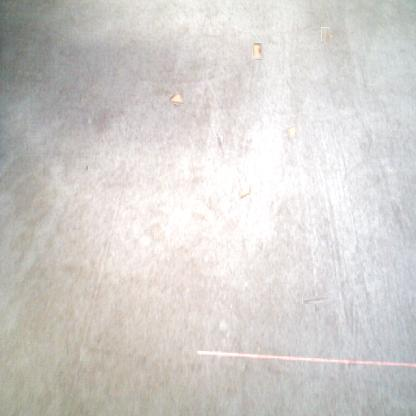dirty: (169, 92, 183, 106), (252, 43, 263, 59), (239, 186, 251, 198), (319, 29, 332, 40), (284, 127, 296, 138)
mark: (307, 292, 323, 309), (216, 136, 223, 149), (82, 162, 88, 172)
